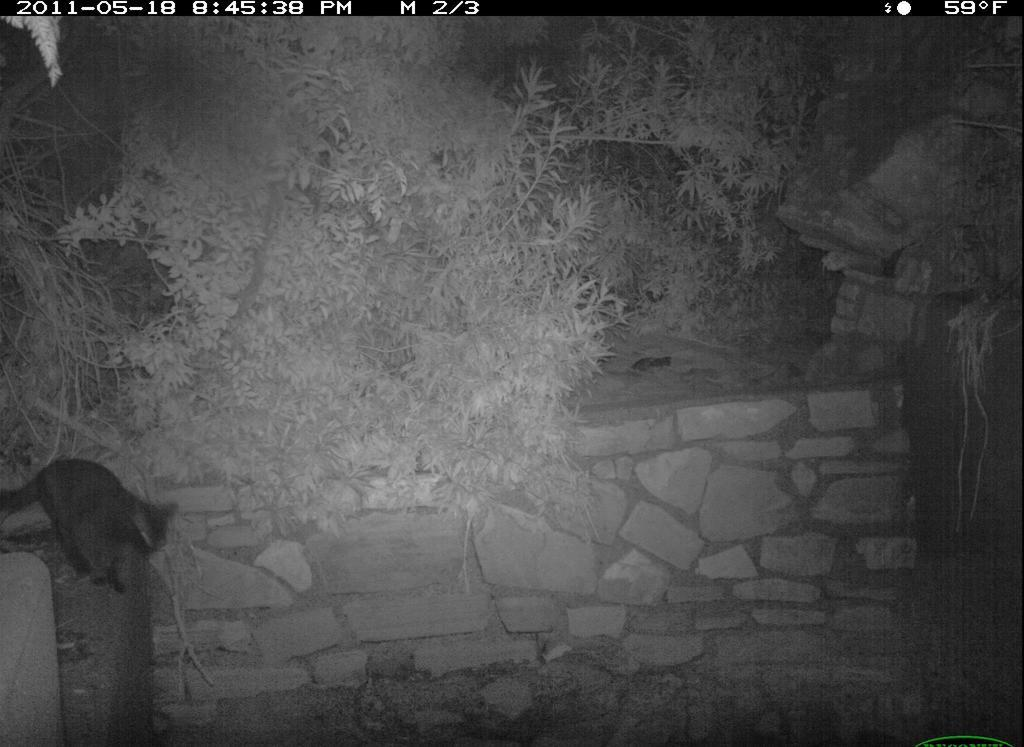cat: (2, 452, 178, 598)
